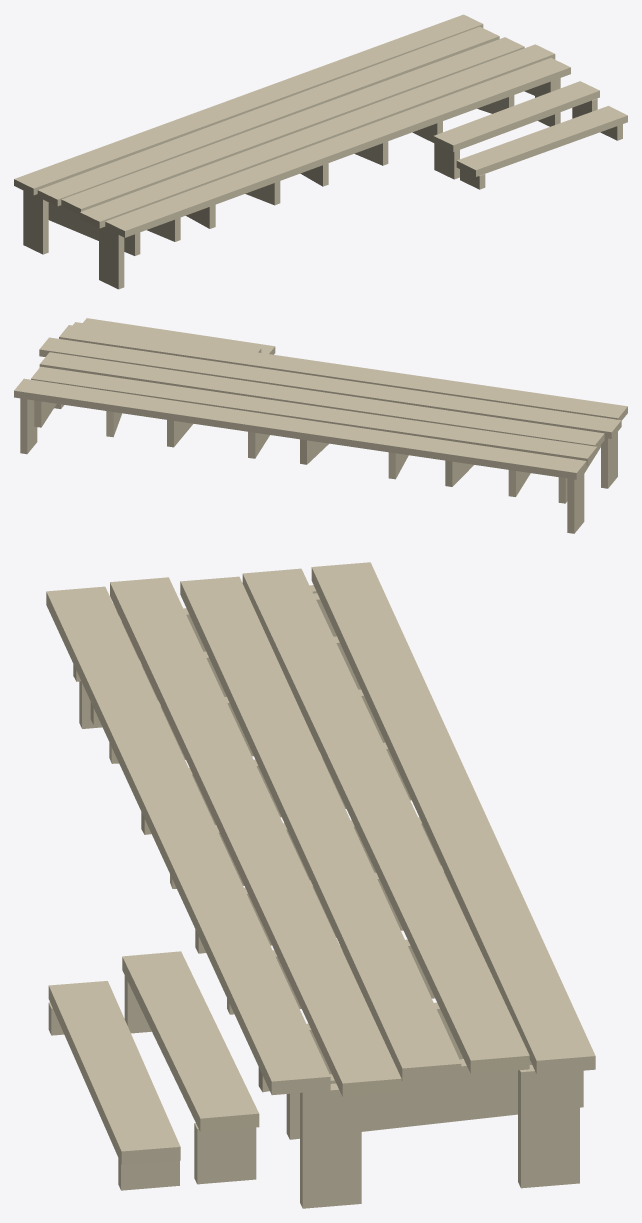
File: Deck.dae
The picture shows the model from 3 angles, top to bottom: view 1: azimuth 30°, elevation 25°; view 2: azimuth 150°, elevation 25°; view 3: azimuth 270°, elevation 25°; orthographic projection. The views are drawn at different scales.
Visible parts, largest first — view 1: Deck; view 2: Deck; view 3: Deck.
Part boxes in pixels (x1,y1,x2,y2): Deck: [14, 14, 627, 289]; Deck: [14, 318, 627, 533]; Deck: [46, 562, 595, 1208].
Bounding box in the file's own units: 15.87 × 6.84 × 1.78.
